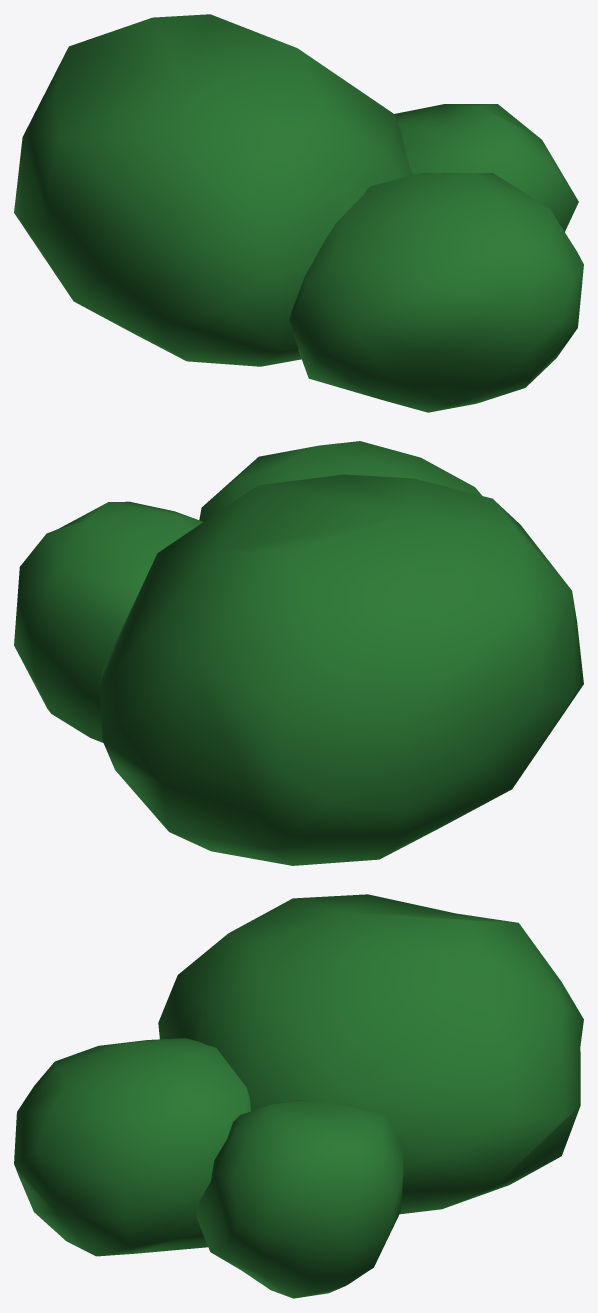
The model's file is SM_Bush.fbx.
The picture shows the model from 3 angles, top to bottom: view 1: azimuth 30°, elevation 25°; view 2: azimuth 150°, elevation 25°; view 3: azimuth 270°, elevation 25°; orthographic projection. The views are drawn at different scales.
Parts seen in each view (by area): view 1: SM_Bush; view 2: SM_Bush; view 3: SM_Bush.
Boxes of the visible parts, box(x1,y1,x2,y2) form: SM_Bush: box(14, 14, 583, 412); SM_Bush: box(14, 441, 583, 865); SM_Bush: box(14, 894, 583, 1298).
Bounding box in the file's own units: 311 × 180 × 340.
